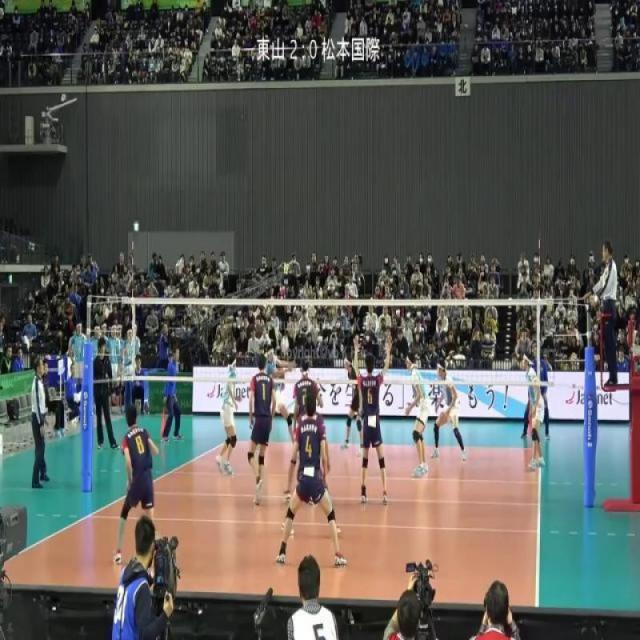volleyball: (280, 336, 290, 353)
